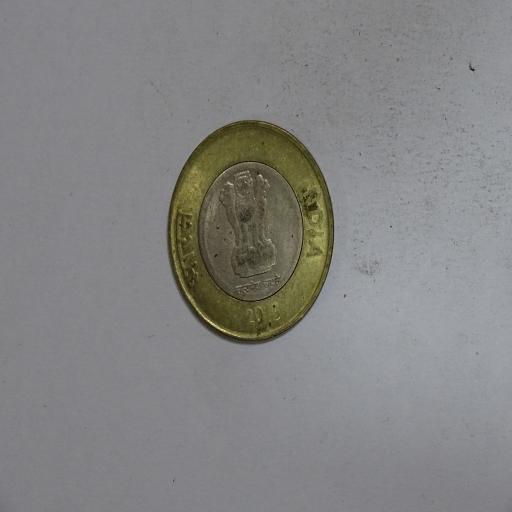rupee10: (167, 121, 334, 344)
